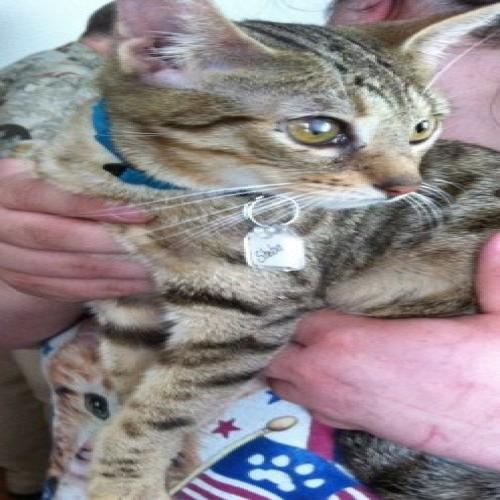cat-face: (79, 1, 500, 213)
